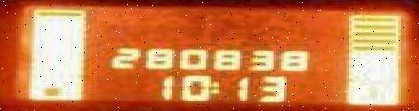0: (177, 72, 208, 101), (175, 47, 206, 69)
1: (229, 75, 252, 101), (154, 72, 172, 101)
2: (107, 44, 138, 69)
3: (253, 73, 284, 102), (245, 47, 273, 71)
8: (208, 47, 239, 71), (276, 48, 307, 71), (141, 47, 172, 69)
X: (208, 78, 218, 94)
